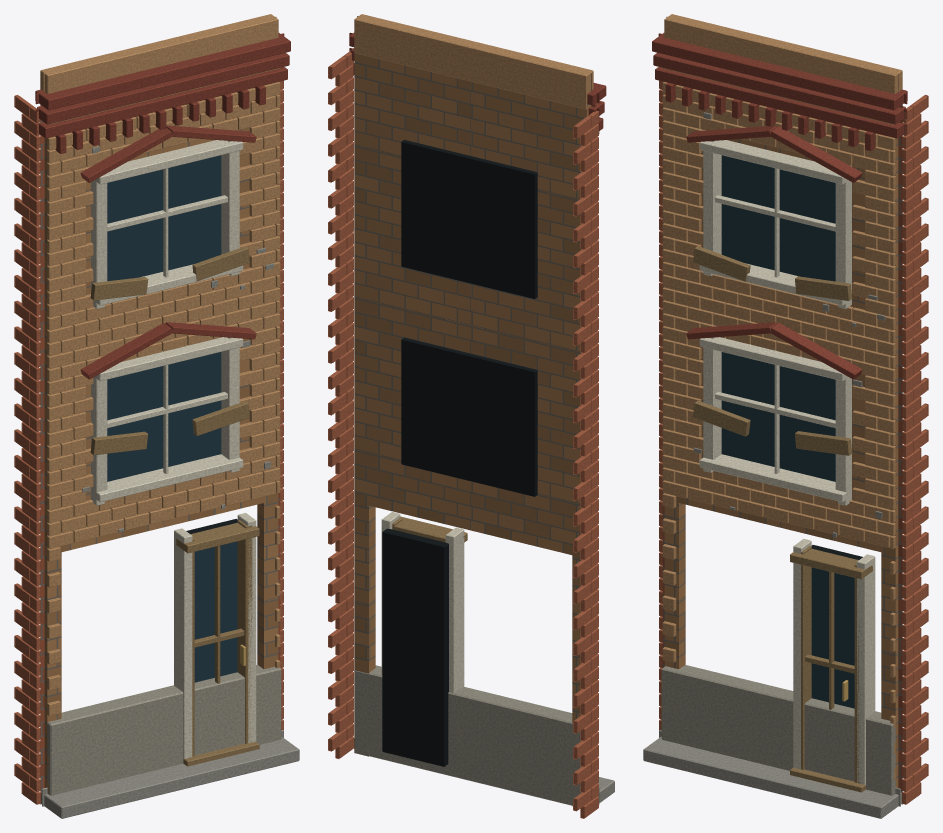
The model's file is VICT1B_lod0.glb.
3 renders of one model, left to right at view 1: azimuth 30°, elevation 25°; view 2: azimuth 150°, elevation 25°; view 3: azimuth 330°, elevation 25°, orthographic.
Visible parts, largest first — view 1: VICT1B_FRONT_LOD0; view 2: VICT1B_FRONT_LOD0; view 3: VICT1B_FRONT_LOD0.
Boxes of the visible parts, x1=… form: VICT1B_FRONT_LOD0: x1=14, y1=14, x2=299, y2=818; VICT1B_FRONT_LOD0: x1=328, y1=14, x2=614, y2=818; VICT1B_FRONT_LOD0: x1=643, y1=14, x2=928, y2=818.
Bounding box in the file's own units: 3.44 × 9.66 × 1.02.
Materials: 17 (14 with a texture image).
